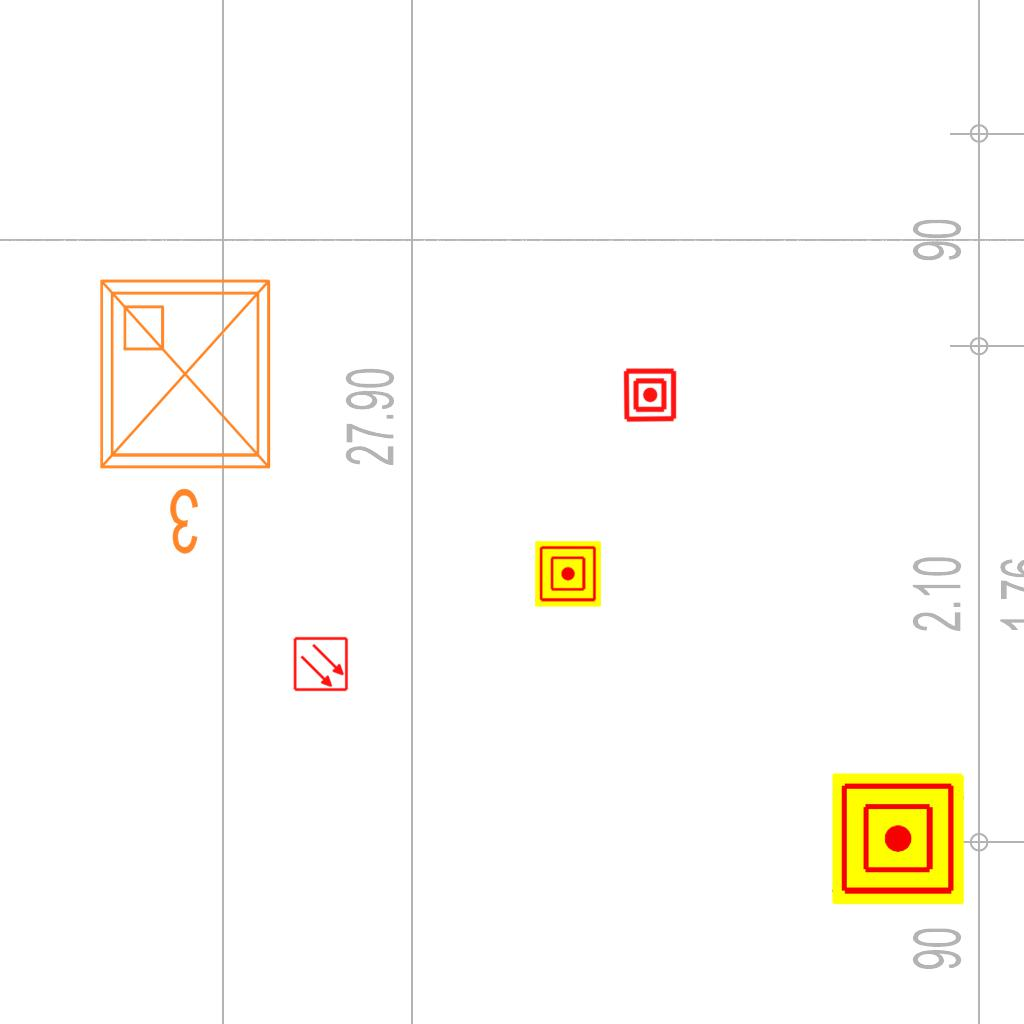Einbaudownlights_LED_Konferenzraeume: (85, 265, 293, 565)
NAM-Nichtautomatischer_Melder: (832, 773, 964, 905), (535, 541, 601, 607), (622, 367, 678, 423)
RMO_Rauchmelder_optischer: (293, 636, 349, 692)
